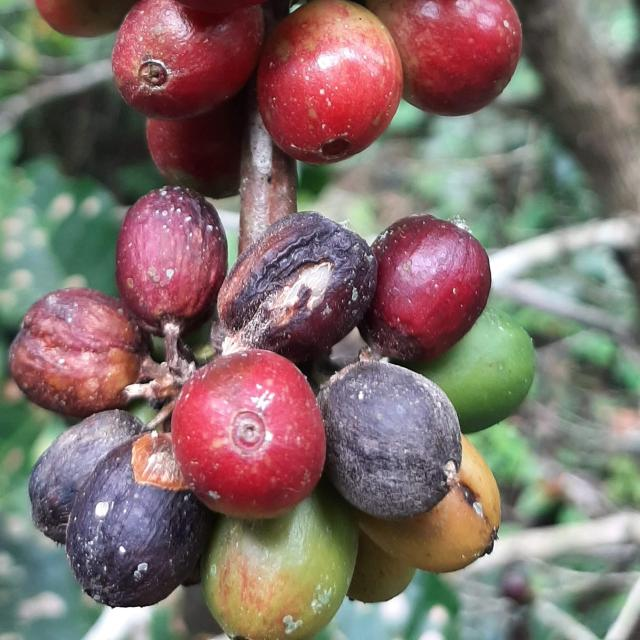green: (405, 307, 536, 434)
red: (171, 349, 326, 520), (66, 432, 212, 608), (217, 212, 377, 363), (318, 360, 462, 520), (360, 214, 492, 361), (111, 0, 264, 120), (8, 288, 148, 418), (115, 186, 227, 338), (28, 410, 142, 545), (146, 92, 244, 198)
yellow: (201, 481, 359, 640), (257, 0, 403, 164), (361, 436, 501, 574), (366, 0, 523, 115), (34, 0, 136, 36)
